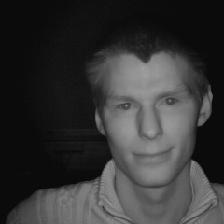happy: (84, 30, 217, 193)
